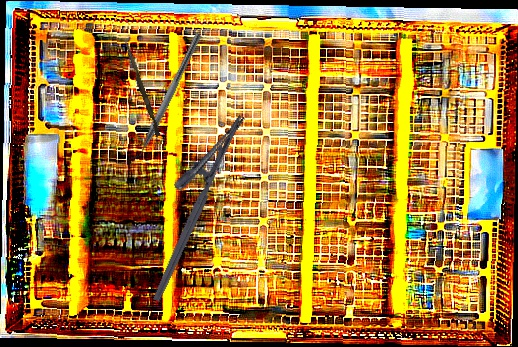Chopper: (124, 28, 203, 169)
Needle Holder: (126, 102, 247, 303)
Pusher: (119, 38, 164, 137)
